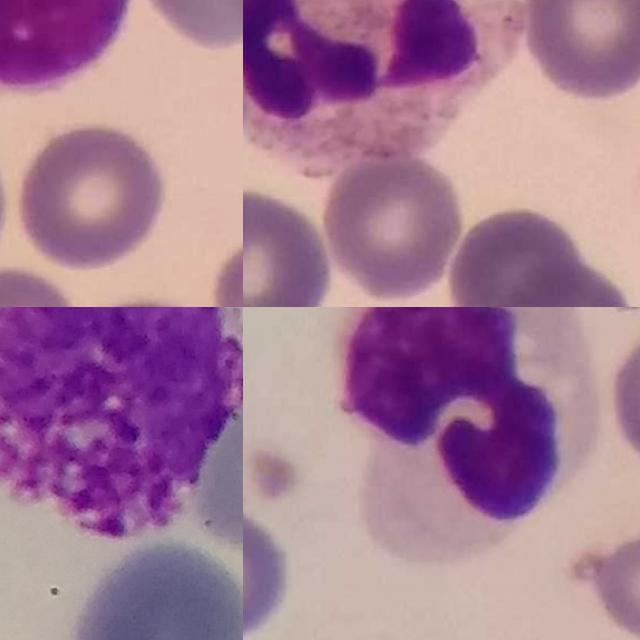Basophil: (0, 307, 243, 542)
Lymphocyte: (0, 0, 132, 89)
Monocyte: (338, 307, 601, 570)
Neutrophil: (243, 0, 526, 169)
